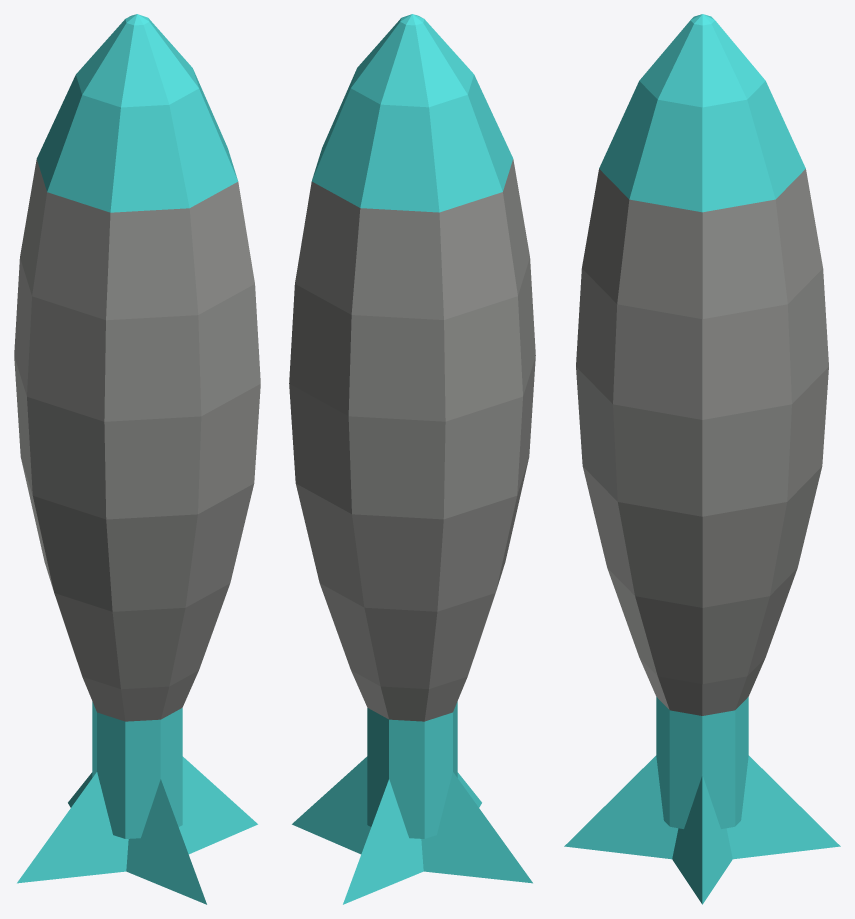
Rendered from Mortar_Projectile_Ice.fbx.
3 renders of one model, left to right at view 1: azimuth 30°, elevation 25°; view 2: azimuth 150°, elevation 25°; view 3: azimuth 270°, elevation 25°, orthographic.
Visible parts, largest first — view 1: Circle; view 2: Circle; view 3: Circle.
Boxes of the visible parts, x1,y1,x2,y2 form: Circle: [14, 14, 260, 904]; Circle: [289, 14, 535, 904]; Circle: [564, 14, 840, 904].
Size of the model in its own units: 210 by 696 by 210.
1 material, 1 textured.
